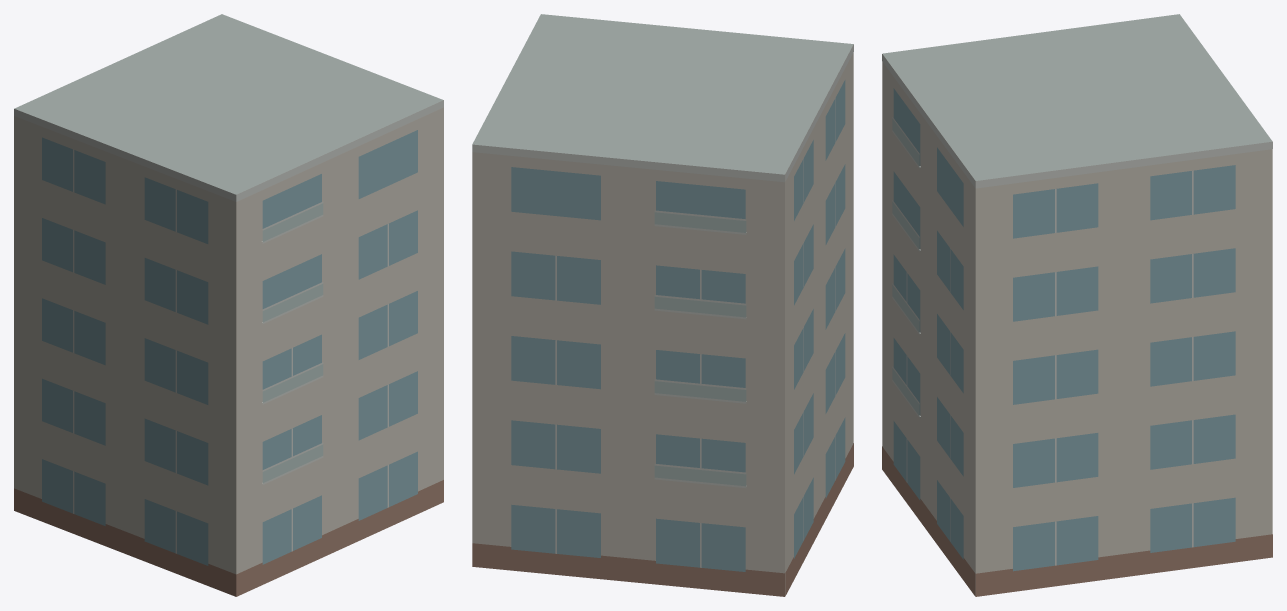
File: survey-upis-32534023.glb
3 renders of one model, left to right at view 1: azimuth 30°, elevation 25°; view 2: azimuth 150°, elevation 25°; view 3: azimuth 270°, elevation 25°, orthographic. The views are drawn at different scales.
Parts seen in each view (by area): view 1: survey-upis-32534023.tmp; view 2: survey-upis-32534023.tmp; view 3: survey-upis-32534023.tmp.
Part boxes in pixels (x1,y1,x2,y2): survey-upis-32534023.tmp: [14, 14, 443, 596]; survey-upis-32534023.tmp: [472, 14, 853, 596]; survey-upis-32534023.tmp: [882, 14, 1272, 596].
Size of the model in its own units: 11.69 by 13.55 by 11.55.
